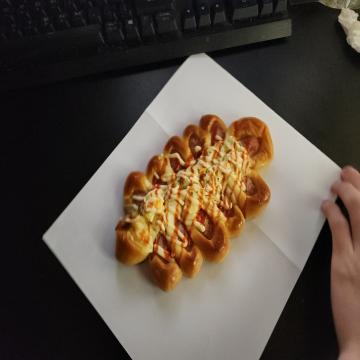pizza_bread: (117, 116, 272, 292)
